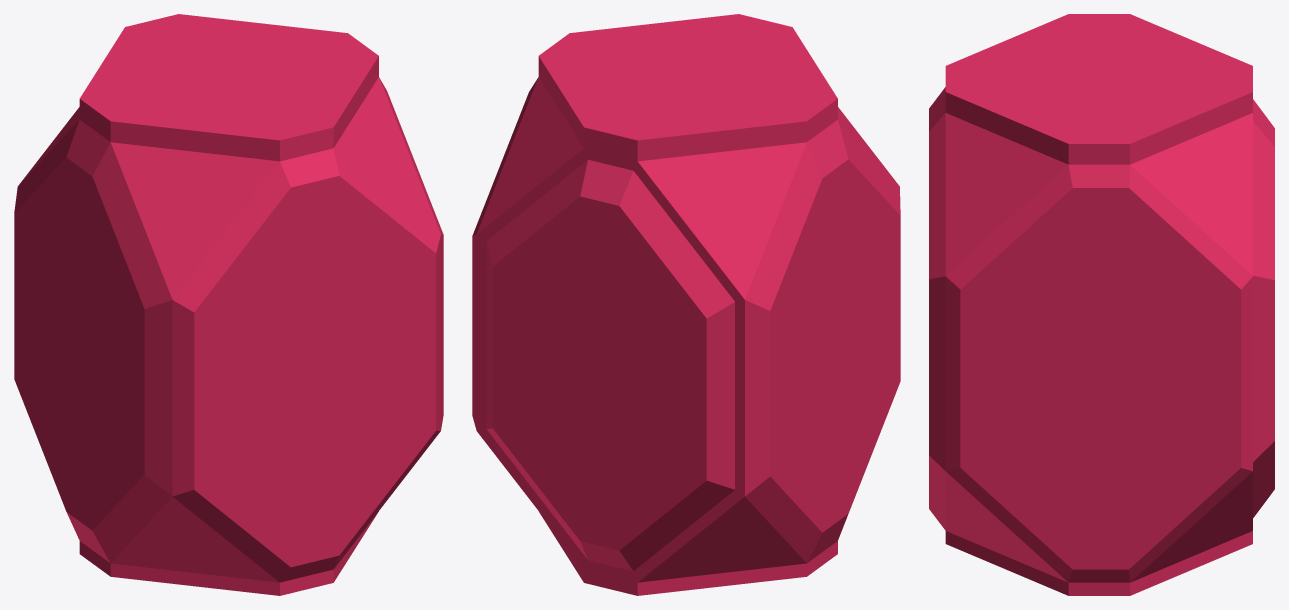
File: gen.glb
3 views of the same model, side by side, from view 1: azimuth 30°, elevation 25°; view 2: azimuth 150°, elevation 25°; view 3: azimuth 270°, elevation 25° (orthographic).
Visible parts, largest first — view 1: Cube; view 2: Cube; view 3: Cube.
Part boxes in pixels (x1,y1,x2,y2): Cube: (14,14,443,595); Cube: (472,14,900,595); Cube: (929,14,1274,595).
Size of the model in its own units: 0.3567 by 0.5297 by 0.3674.
